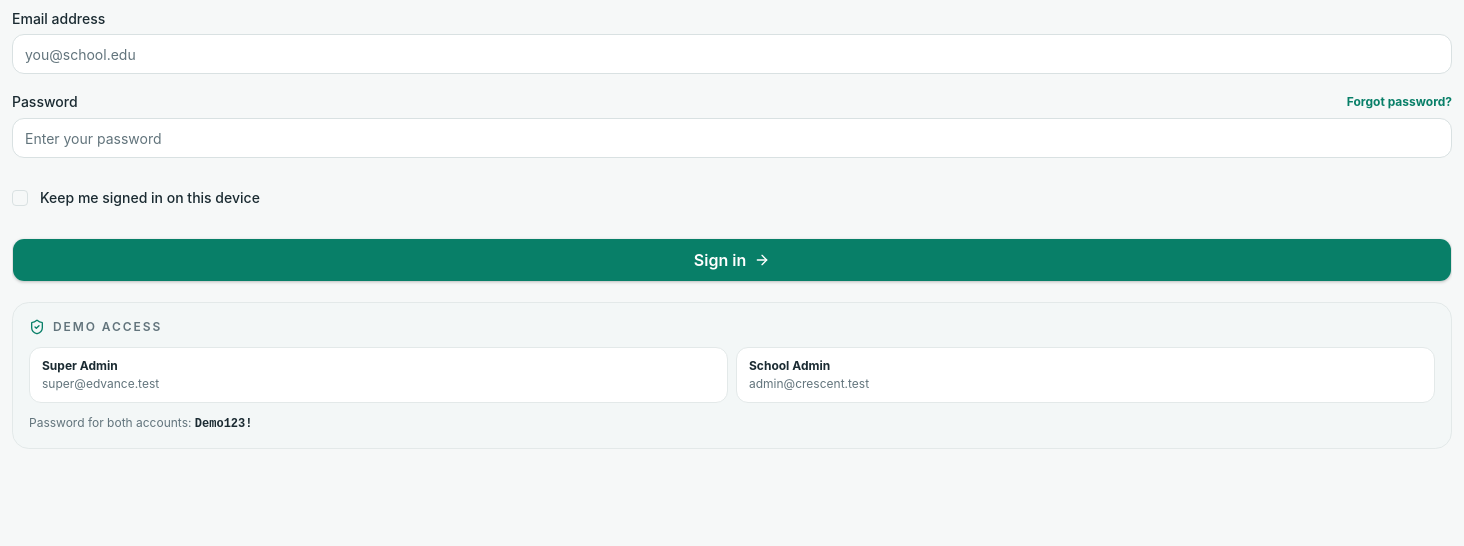
Test: LoginForm › shows an API-safe error for rejected credentials
The width and height of the screenshot is (1464, 546).
In the field labelled "Email address": {"x": 732, "y": 54} [12,34,1452,74], type "unknown@example.com"
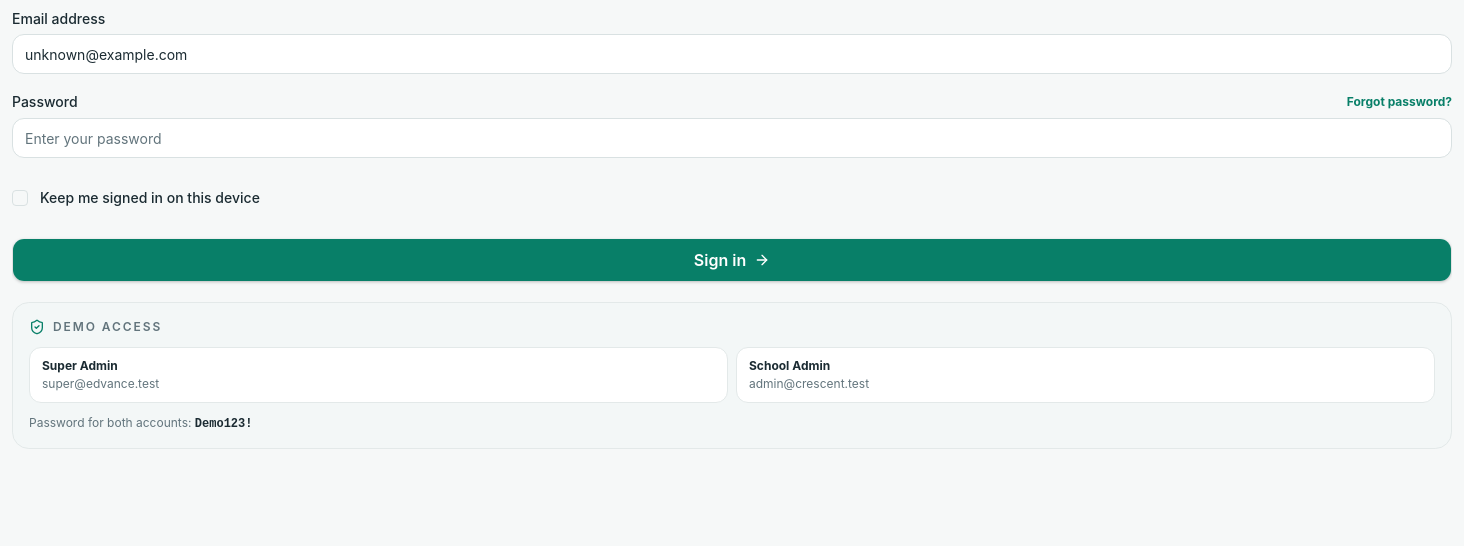
In the password field labelled "Password": {"x": 732, "y": 138} [12,118,1452,158], type "Wrong123!"
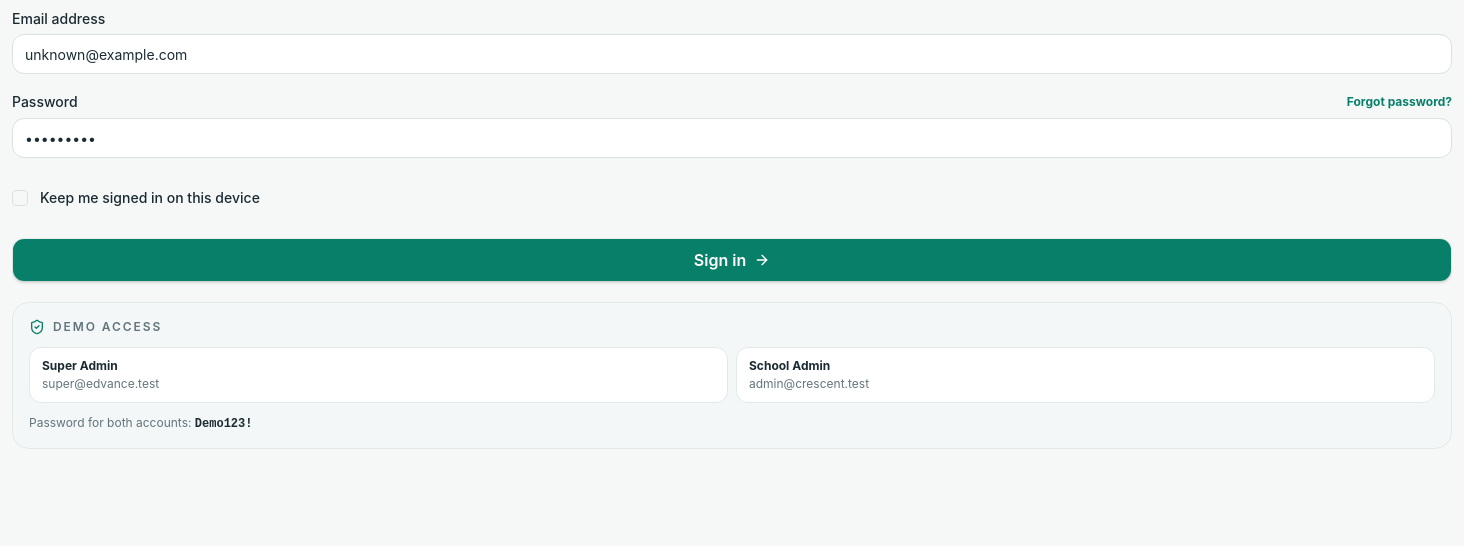
Click the button "Sign in": {"x": 732, "y": 260} [12,238,1452,282]
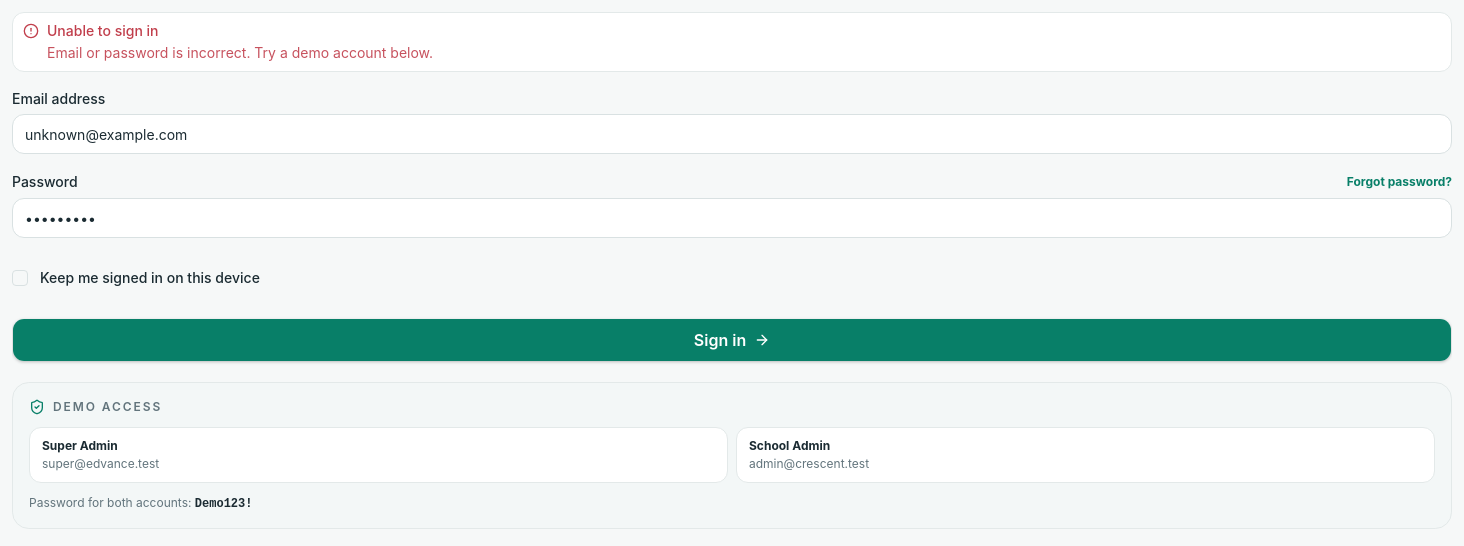
Expected: the text "Unable to sign in" is shown, [47,22,158,39]
Expected: the text "Email or password is incorrect. Try a demo account below." is shown, [47,44,433,61]
